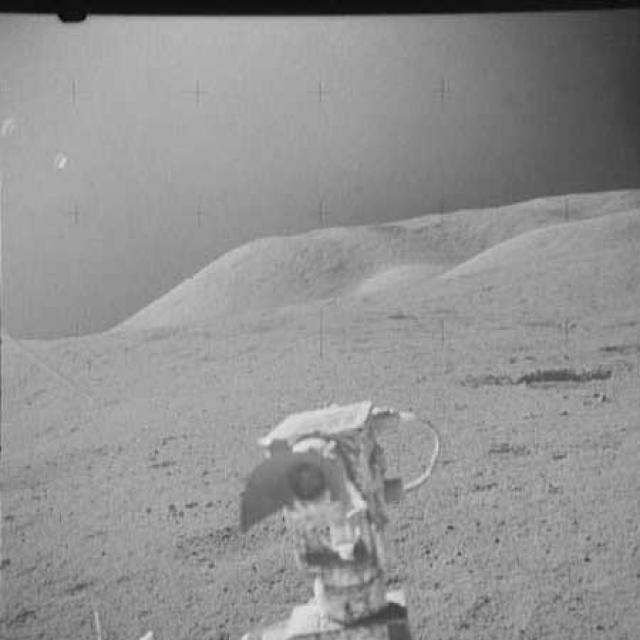artifact: (220, 396, 448, 638)
crater: (588, 312, 638, 334), (593, 338, 639, 358), (515, 313, 562, 331), (384, 310, 417, 326)
